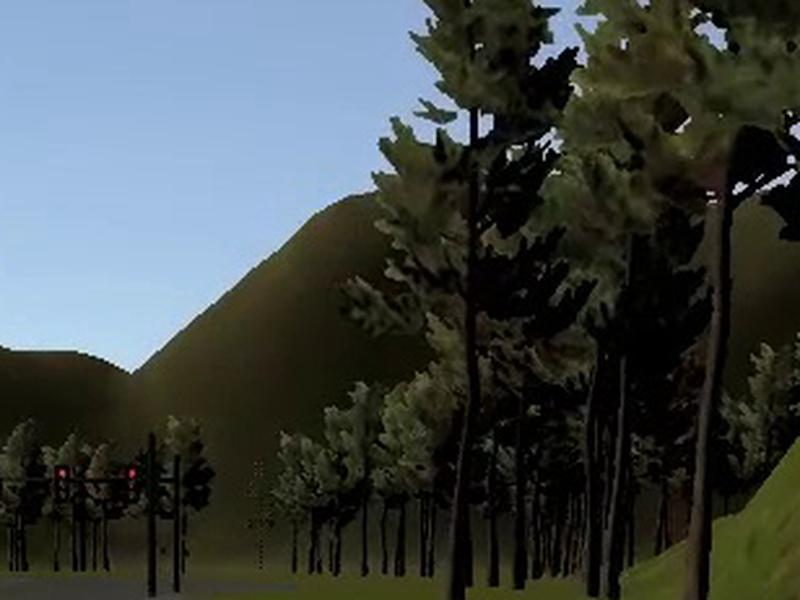Red: (124, 466, 140, 504), (55, 465, 68, 502)
